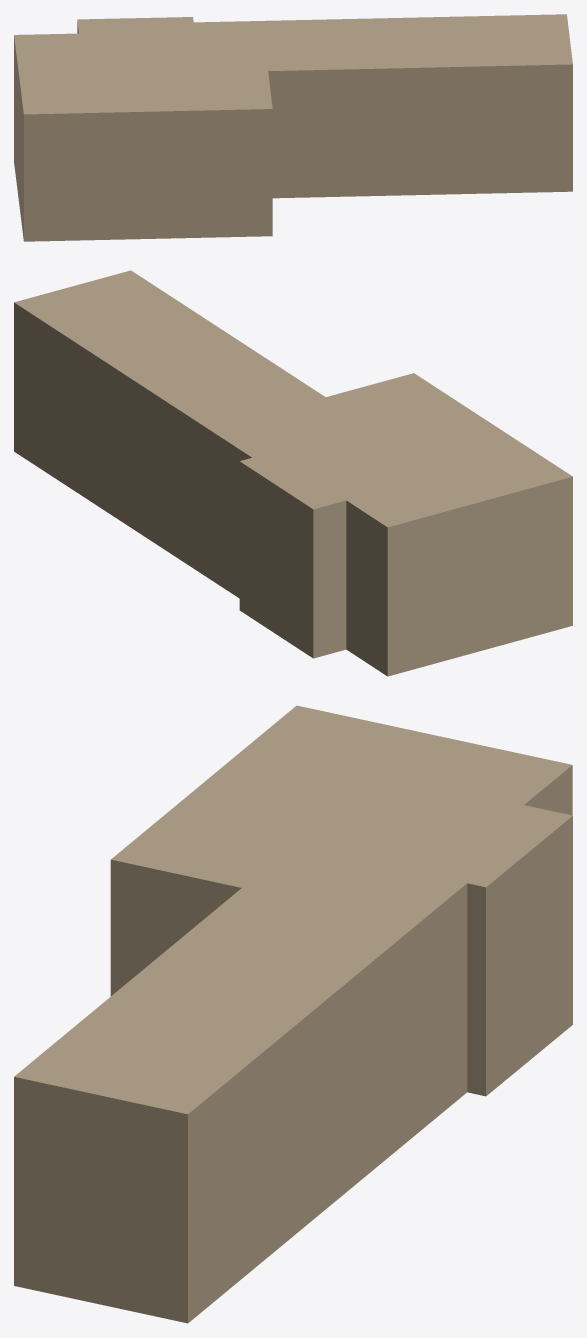
File: bld_107914673.dae
3 views of the same model, one above another, from view 1: azimuth 30°, elevation 25°; view 2: azimuth 150°, elevation 25°; view 3: azimuth 270°, elevation 25° (orthographic). The views are drawn at different scales.
Visible parts, largest first — view 1: The Muddy Duck; view 2: The Muddy Duck; view 3: The Muddy Duck.
Boxes of the visible parts, box(x1,y1,x2,y2) form: The Muddy Duck: box(14, 14, 572, 241); The Muddy Duck: box(14, 270, 572, 676); The Muddy Duck: box(14, 705, 572, 1323).
Size of the model in its own units: 33.55 by 19.38 by 8.
